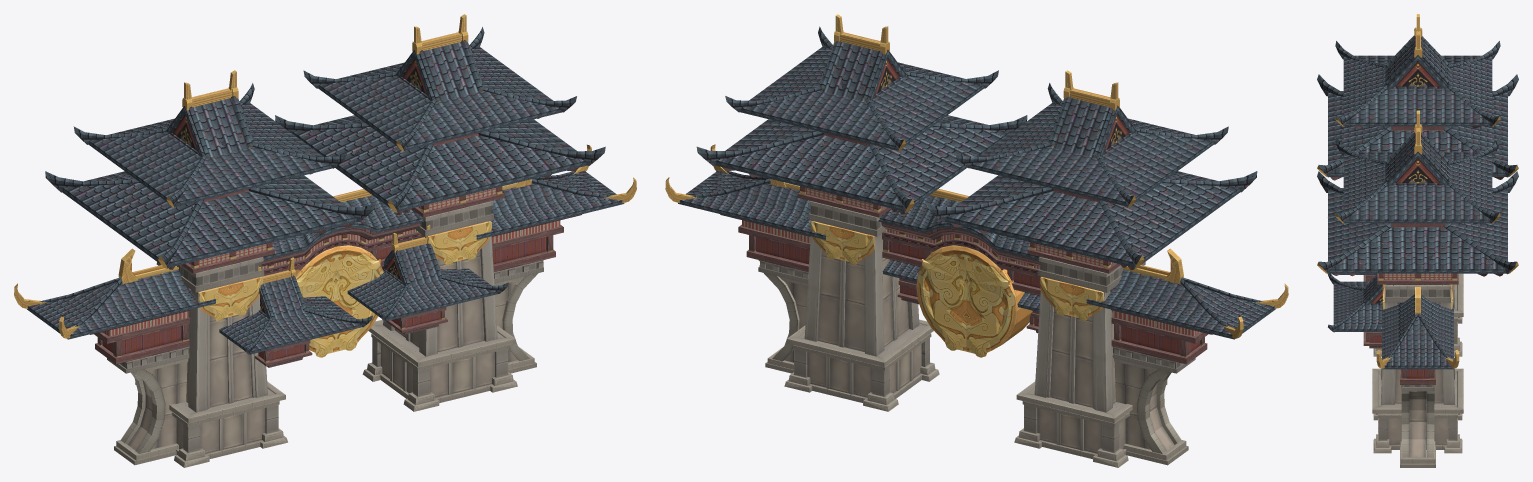
Rendered from mod_zlc_jianzhu001_xy.FBX.
The picture shows the model from 3 angles, left to right: view 1: azimuth 30°, elevation 25°; view 2: azimuth 150°, elevation 25°; view 3: azimuth 270°, elevation 25°; orthographic projection. The views are drawn at different scales.
Visible parts, largest first — view 1: mod_zlc_jianzhu001_xy; view 2: mod_zlc_jianzhu001_xy; view 3: mod_zlc_jianzhu001_xy.
Part boxes in pixels (box(x1,y1,x2,y2)): mod_zlc_jianzhu001_xy: box(14, 14, 636, 467); mod_zlc_jianzhu001_xy: box(665, 14, 1288, 467); mod_zlc_jianzhu001_xy: box(1317, 14, 1518, 467).
Bounding box in the file's own units: 16913 × 10061 × 5934.
Materials: 4 (4 with a texture image).
